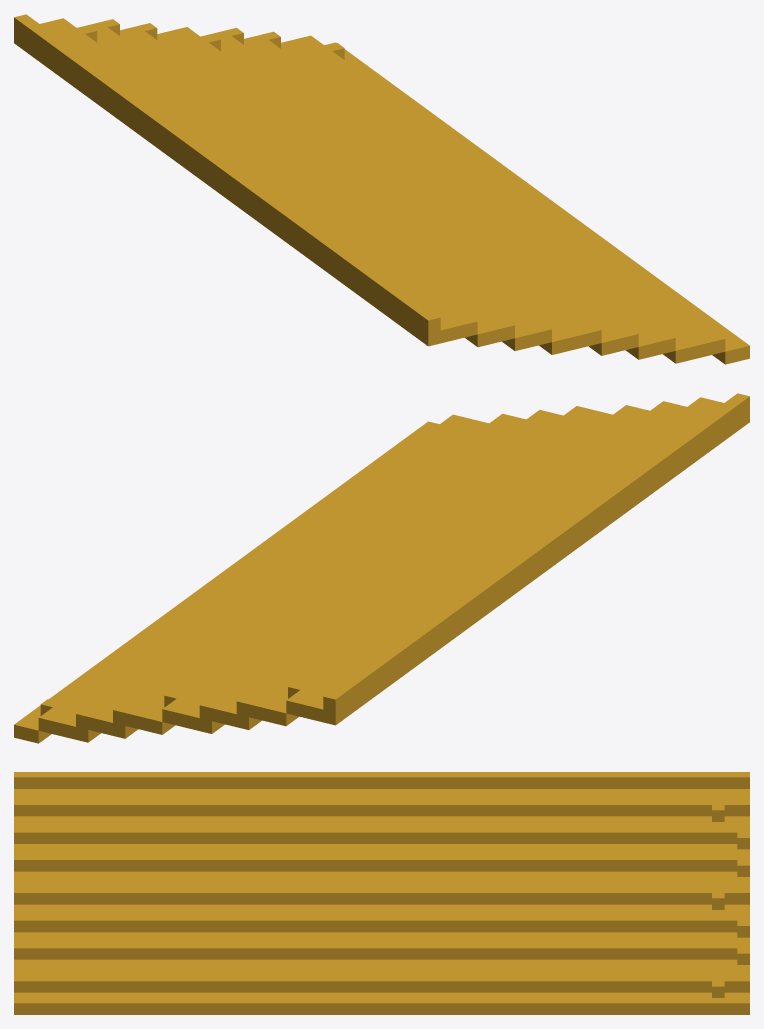
Rendered from food_truck_bonnet.glb.
3 views of the same model, one above another, from view 1: azimuth 30°, elevation 25°; view 2: azimuth 150°, elevation 25°; view 3: azimuth 270°, elevation 25° (orthographic). The views are drawn at different scales.
Visible parts, largest first — view 1: body:compound; view 2: body:compound; view 3: body:compound.
Boxes of the visible parts, left/top/right/bottom form: body:compound: left=14, top=14, right=749, bottom=364; body:compound: left=14, top=393, right=749, bottom=743; body:compound: left=14, top=772, right=749, bottom=1014.
Size of the model in its own units: 0.8125 by 0.2812 by 1.81.
